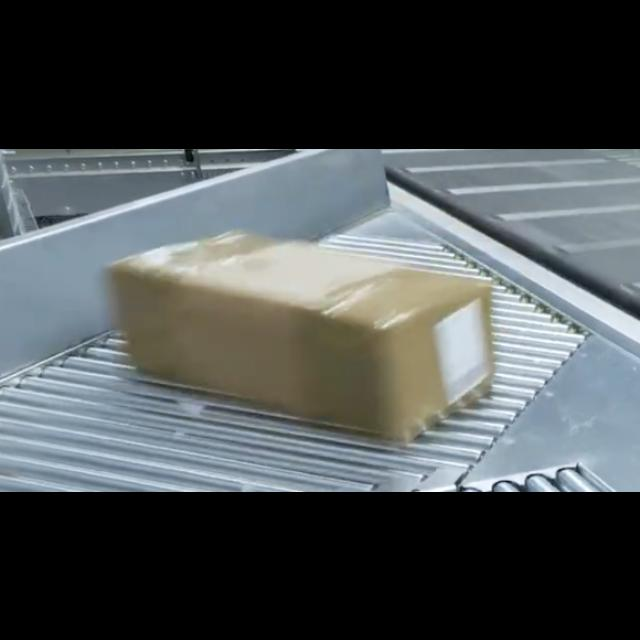box: (106, 230, 494, 438)
